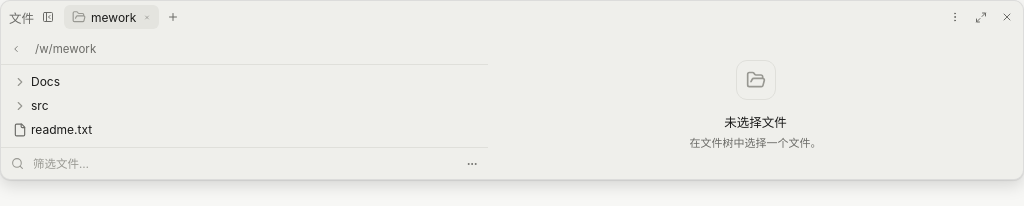
Scenario: FilesPane › says a binary file cannot be shown instead of rendering it
Click the list item "readme.txt".
click(53, 130)  # box [13,122,92,137]
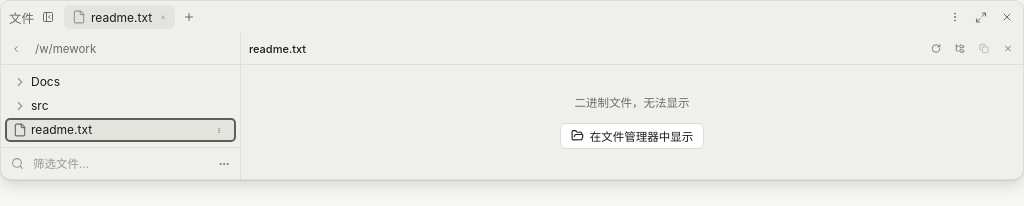
expect the text "二进制文件，无法显示" is shown: met, box [574,95,690,113]
